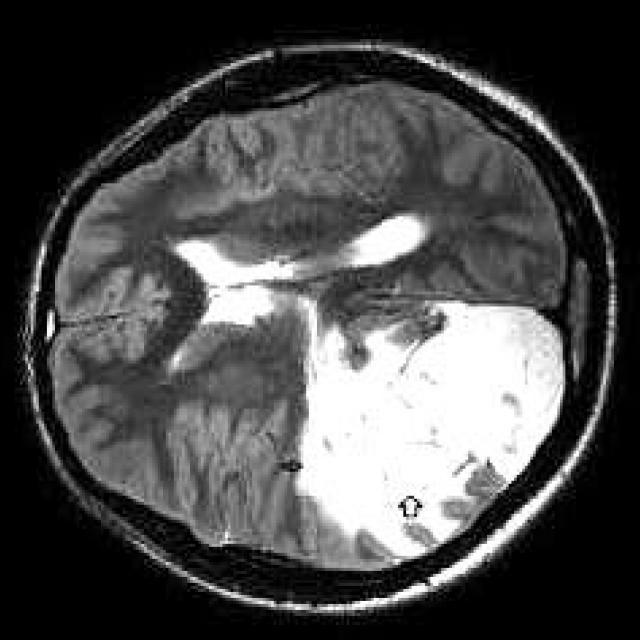tumor: (292, 300, 564, 562)
